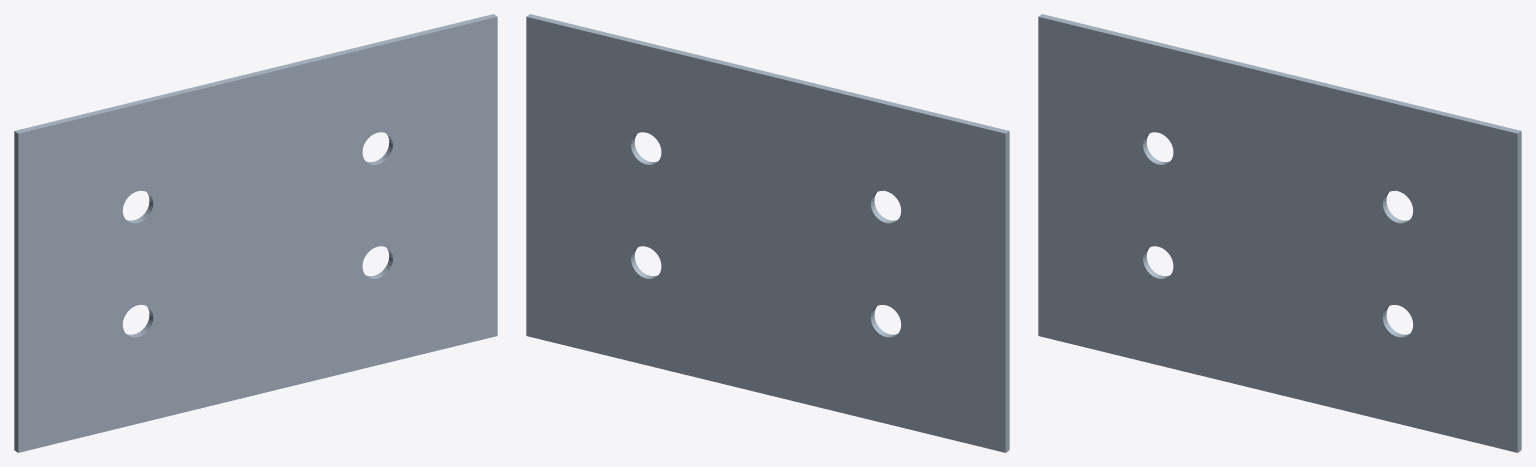
Rendered from synthetic-plate-folded.glb.
The picture shows the model from 3 angles, left to right: view 1: azimuth 30°, elevation 25°; view 2: azimuth 150°, elevation 25°; view 3: azimuth 330°, elevation 25°; orthographic projection.
Parts seen in each view (by area): view 1: world; view 2: world; view 3: world.
Boxes of the visible parts, x1,y1,x2,y2 form: world: (14,14,497,452); world: (526,14,1009,452); world: (1038,14,1521,452).
Size of the model in its own units: 220 by 140 by 3.
